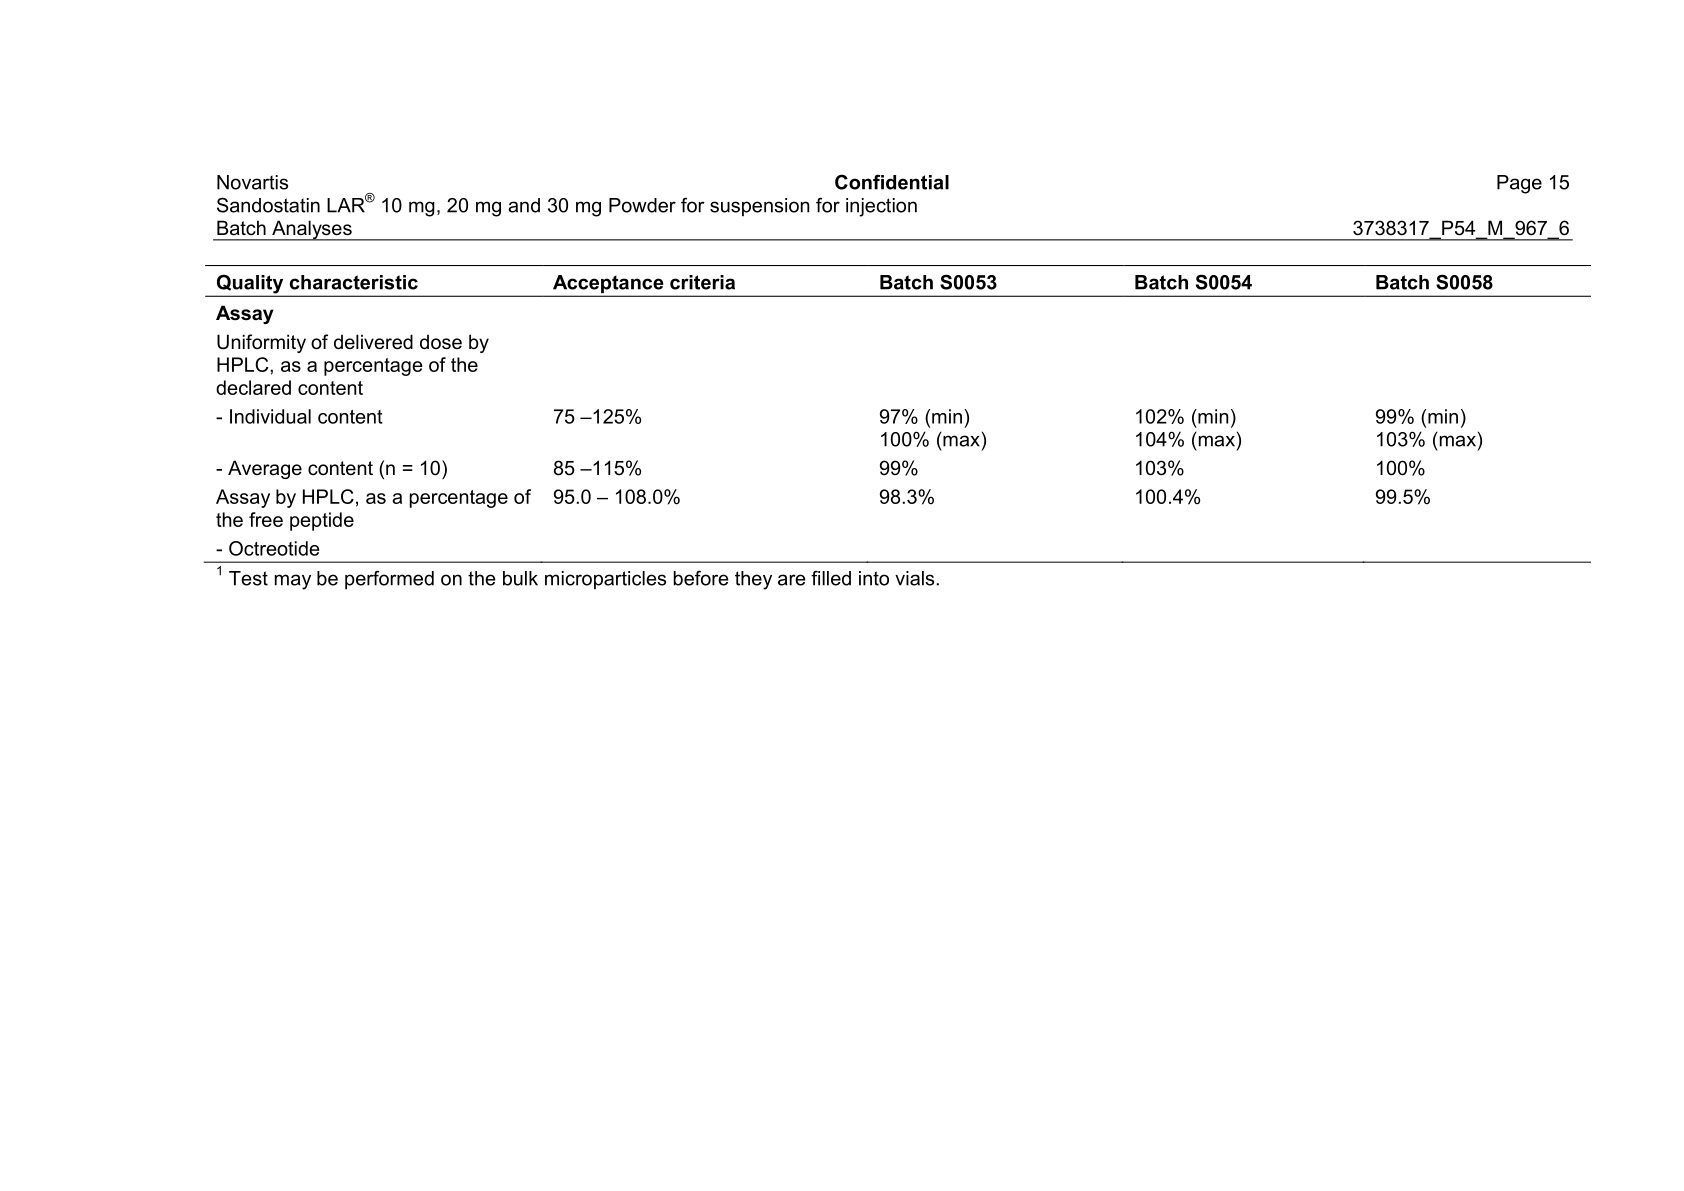partial_lined: (204, 262, 1593, 565)
